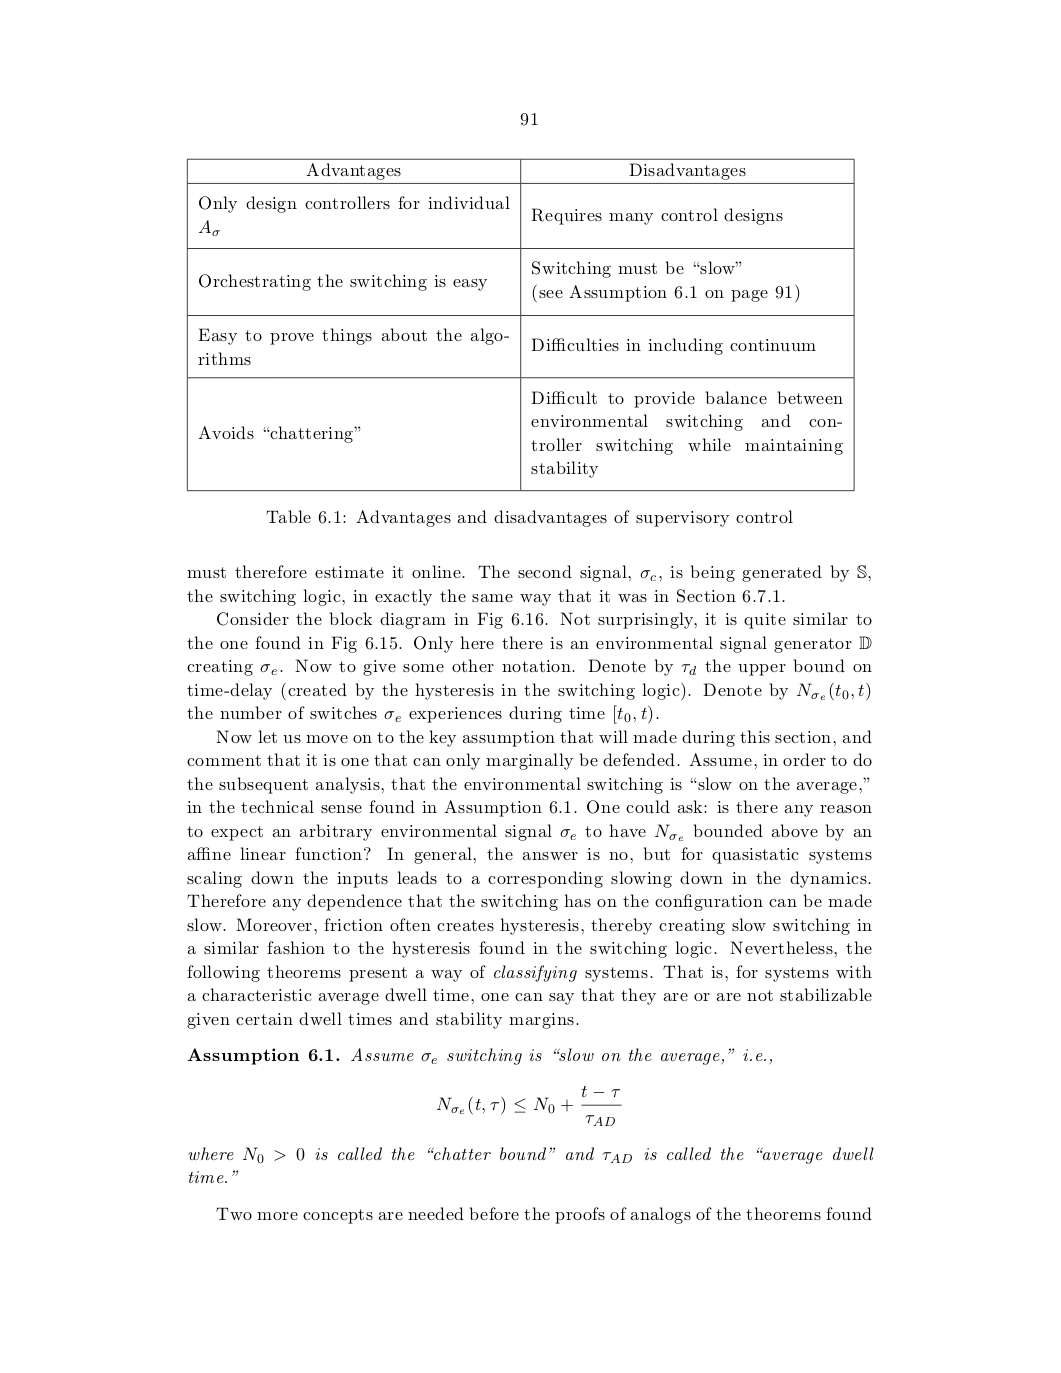Table: (186, 157, 854, 491)
formula: (436, 1084, 621, 1126)
